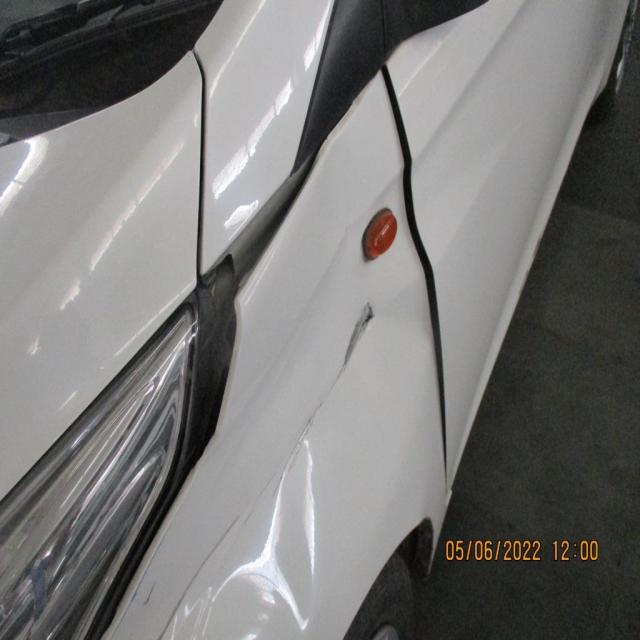damage: (157, 403, 305, 639), (173, 225, 242, 477), (318, 282, 399, 421)
